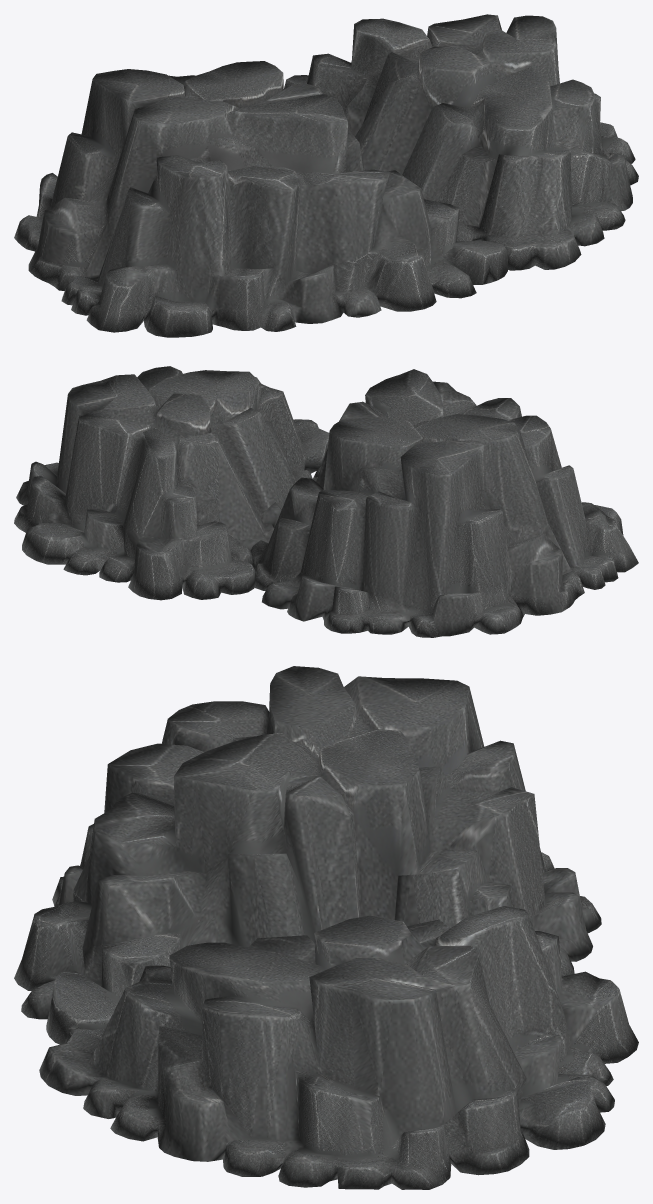
Rendered from rock_split_mid_v1.glb.
The picture shows the model from 3 angles, top to bottom: view 1: azimuth 30°, elevation 25°; view 2: azimuth 150°, elevation 25°; view 3: azimuth 270°, elevation 25°; orthographic projection. The views are drawn at different scales.
Bounding box in the file's own units: 1 × 0.2606 × 0.7052.
Materials: 1 (1 with a texture image).
